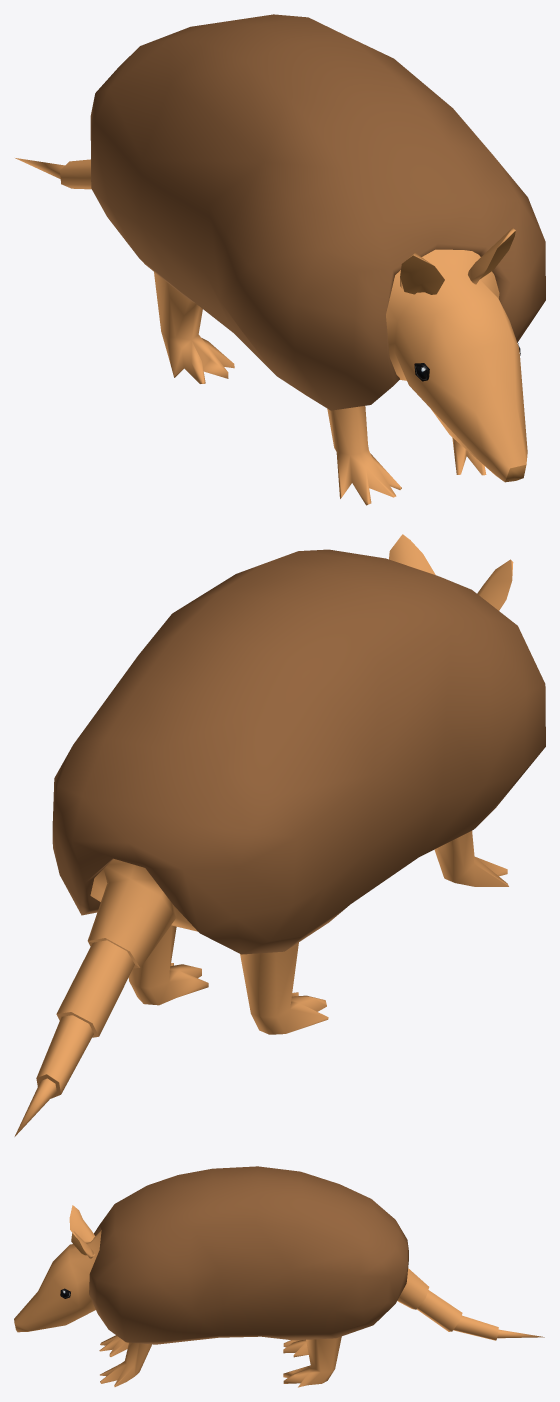
File: Armadillo.glb
3 views of the same model, one above another, from view 1: azimuth 30°, elevation 25°; view 2: azimuth 150°, elevation 25°; view 3: azimuth 270°, elevation 25° (orthographic). The views are drawn at different scales.
Visible parts, largest first — view 1: Armadillo; view 2: Armadillo; view 3: Armadillo.
Part boxes in pixels (bbox=[...]): Armadillo: bbox=[15, 14, 545, 505]; Armadillo: bbox=[14, 534, 545, 1136]; Armadillo: bbox=[14, 1166, 544, 1387].
Size of what is drawn, in the model's own units: 0.3415 by 0.3929 by 1.01.
1 material, 1 textured.
